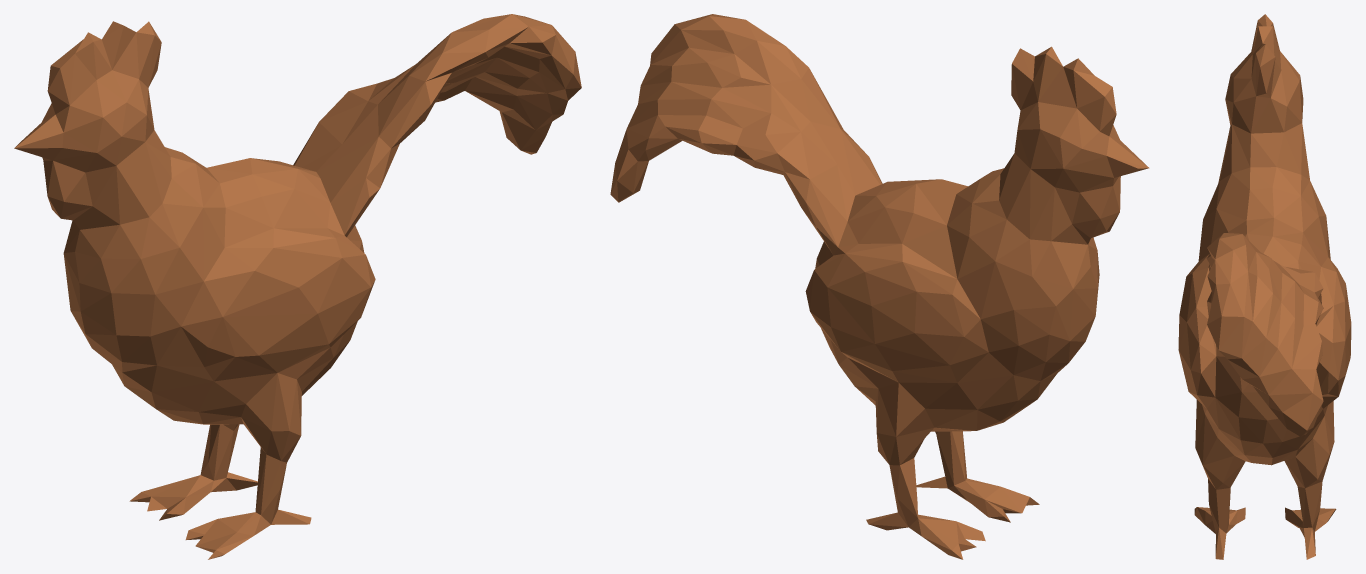
Rendered from NEW_RECOVERY_030_LOD2.glb.
3 views of the same model, side by side, from view 1: azimuth 30°, elevation 25°; view 2: azimuth 150°, elevation 25°; view 3: azimuth 270°, elevation 25° (orthographic). The views are drawn at different scales.
Parts seen in each view (by area): view 1: Rooster_Solid; view 2: Rooster_Solid; view 3: Rooster_Solid.
Part boxes in pixels (bbox=[...]): Rooster_Solid: bbox=[14, 14, 581, 559]; Rooster_Solid: bbox=[610, 14, 1149, 559]; Rooster_Solid: bbox=[1178, 14, 1351, 559].
Bounding box in the file's own units: 2.76 × 2.54 × 0.8564.
